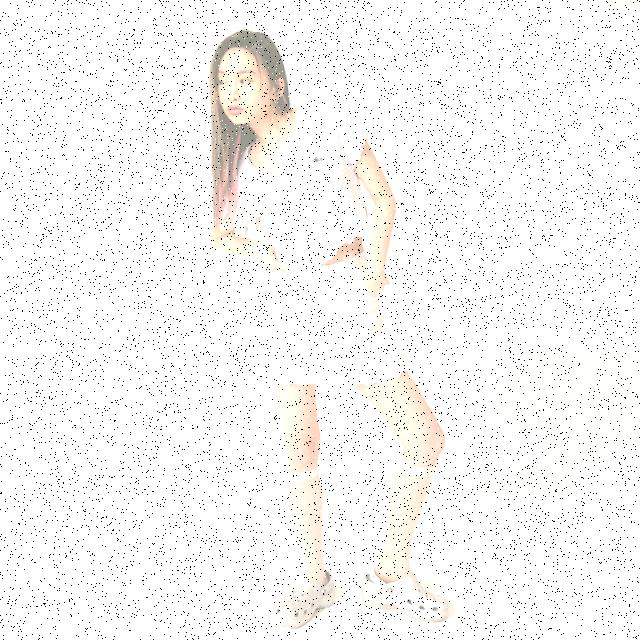Blouse_deep: (211, 107, 380, 260), (251, 262, 411, 388)
